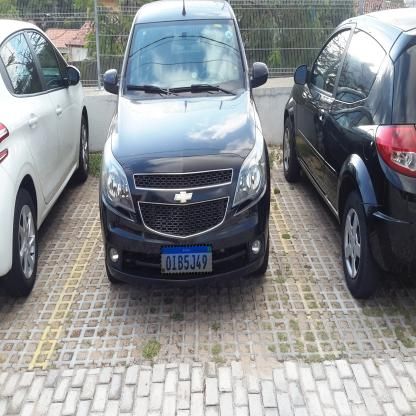PlacaM: (160, 244, 213, 275)
